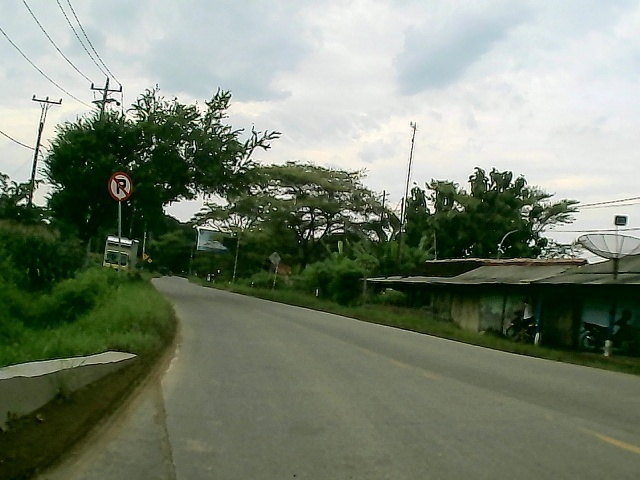Dilarang parkir: (107, 171, 134, 201)
